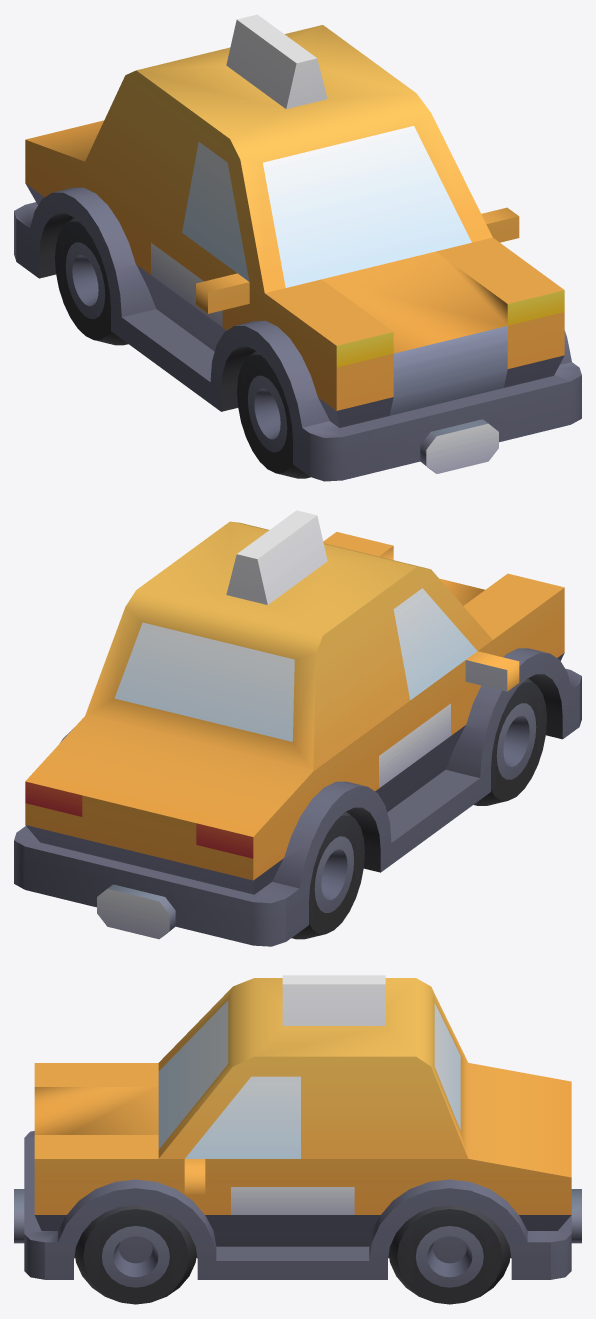
Rendered from k.taxi.glb.
3 views of the same model, one above another, from view 1: azimuth 30°, elevation 25°; view 2: azimuth 150°, elevation 25°; view 3: azimuth 270°, elevation 25° (orthographic). The views are drawn at different scales.
Parts seen in each view (by area): view 1: body, wheel-front-right, wheel-back-right; view 2: body, wheel-back-right, wheel-front-right; view 3: body, wheel-back-left, wheel-front-left.
Part boxes in pixels (x1,y1,x2,y2): body: (14, 14, 581, 481); wheel-front-right: (237, 350, 310, 478); wheel-back-right: (55, 217, 128, 345); body: (14, 510, 581, 946); wheel-back-right: (291, 811, 364, 939); wheel-front-right: (473, 678, 546, 805); body: (14, 975, 581, 1279); wheel-back-left: (388, 1205, 510, 1304); wheel-front-left: (75, 1205, 196, 1304).
Bounding box in the file's own units: 2.71 × 2.71 × 4.96.
1 material, 1 textured.
